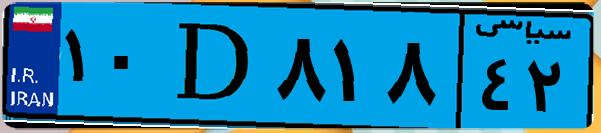0: (110, 28, 158, 98)
1: (330, 28, 385, 110), (57, 26, 110, 100)
2: (525, 38, 570, 115)
4: (475, 38, 525, 113)
8: (270, 28, 330, 110), (385, 28, 445, 110)
D: (158, 12, 270, 120)
